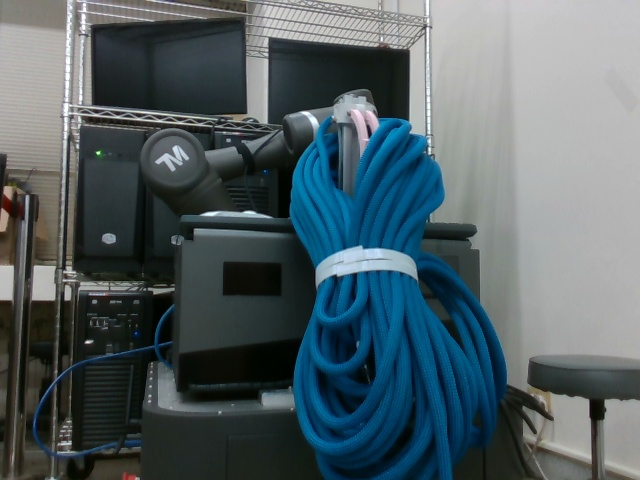rope: (285, 107, 510, 480)
